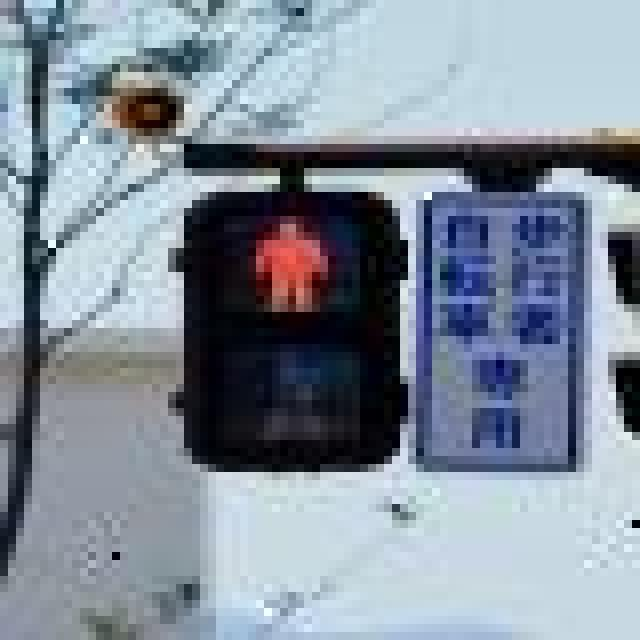redlight: (190, 192, 403, 471)
